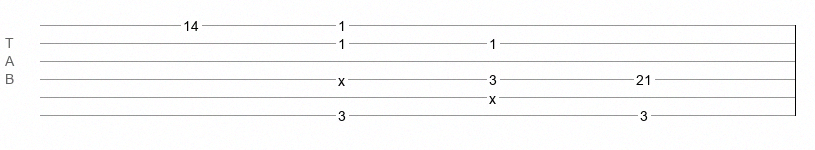1: (338, 36, 346, 46), (338, 18, 346, 28), (489, 36, 497, 46)
14: (183, 18, 199, 28)
21: (636, 72, 652, 82)
3: (338, 108, 346, 118), (489, 72, 497, 82), (640, 108, 648, 118)
x: (338, 73, 345, 81), (489, 91, 496, 99)
